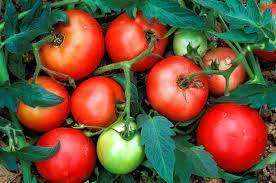healthy-tomato: (39, 11, 107, 83), (198, 105, 269, 168), (106, 13, 173, 73), (148, 58, 209, 122), (6, 75, 68, 134), (33, 128, 98, 183), (71, 77, 127, 130)
